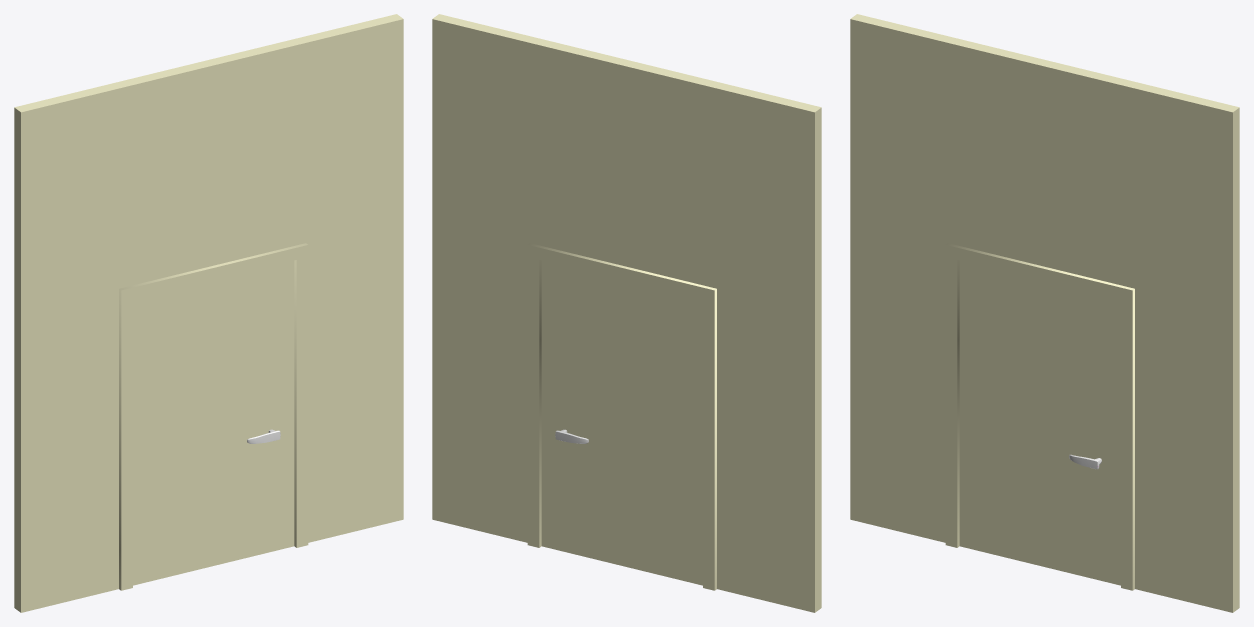
Rendered from MallOffice_Doorway_Hall_8m.fbx.
3 views of the same model, side by side, from view 1: azimuth 30°, elevation 25°; view 2: azimuth 150°, elevation 25°; view 3: azimuth 330°, elevation 25° (orthographic).
Parts seen in each view (by area): view 1: BasicWall_*m, Door; view 2: BasicWall_*m, Door; view 3: BasicWall_*m, Door.
Boxes of the visible parts, x1=… form: BasicWall_*m: x1=14, y1=14, x2=403, y2=612; Door: x1=133, y1=260, x2=294, y2=585; BasicWall_*m: x1=432, y1=14, x2=821, y2=612; Door: x1=541, y1=260, x2=702, y2=585; BasicWall_*m: x1=850, y1=14, x2=1239, y2=612; Door: x1=959, y1=260, x2=1120, y2=585.
Size of the model in its own units: 400 by 500 by 34.17.
